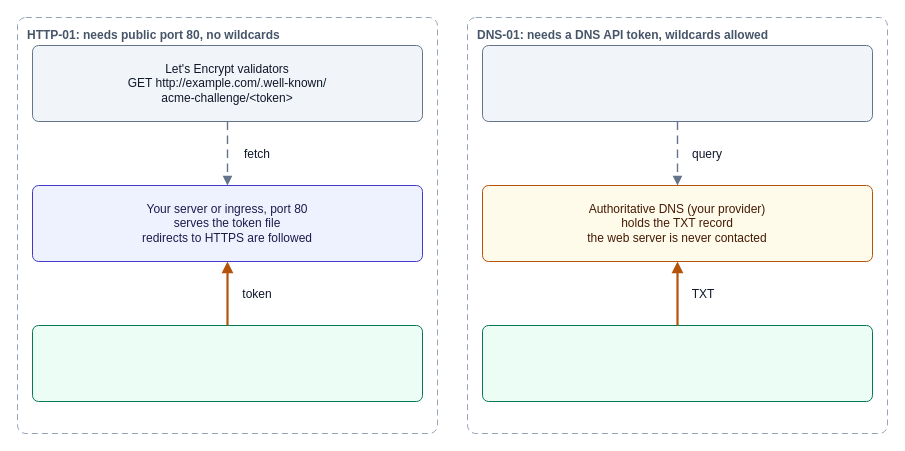
The diagram is 905 pixels wide and 451 high, and some of its shapes have lost their labels. The shapes that lost their labels are listed below. From the top down, each one's centre as x and y in pixels, then its label:
point (677, 83): Let's Encrypt validators TXT lookup _acme-challenge.example.com
point (227, 363): ACME client writes the token before validation removes it afterwards
point (677, 363): ACME client creates the record over the DNS API token scoped to one zone
